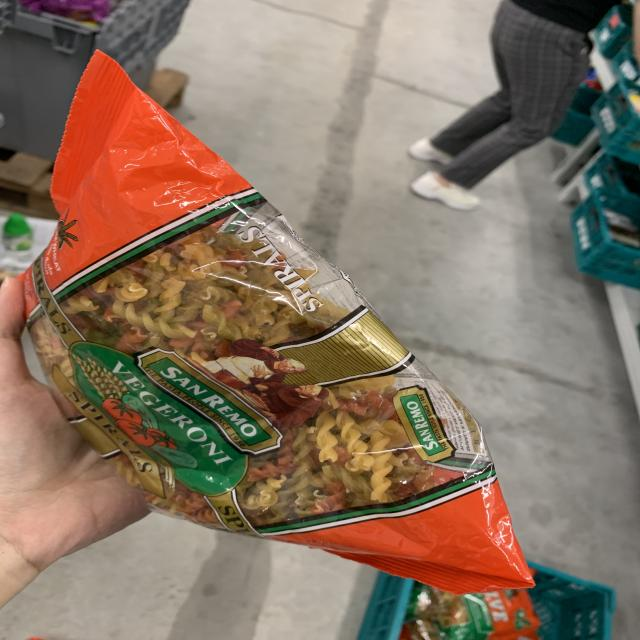object_name: (40, 62, 520, 576)
